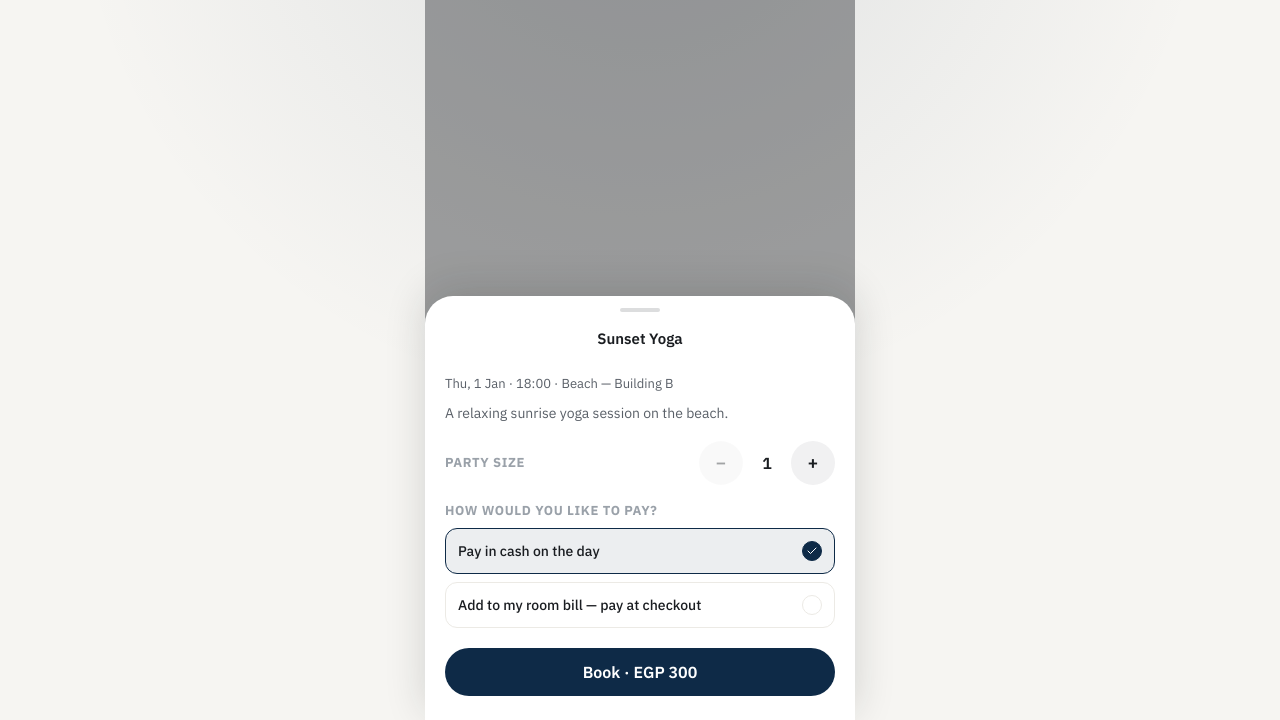
EventBookingSheet (21.4) › bounds the stepper at min 1 and caps at spotsLeft when tighter than maxPartySize
This screenshot has width=1280, height=720.
Expected: the button with test id "party-minus" is disabled, [699,440,743,484]
Click the button with test id "party-plus". click: (813, 462)
box: [791,440,835,484]
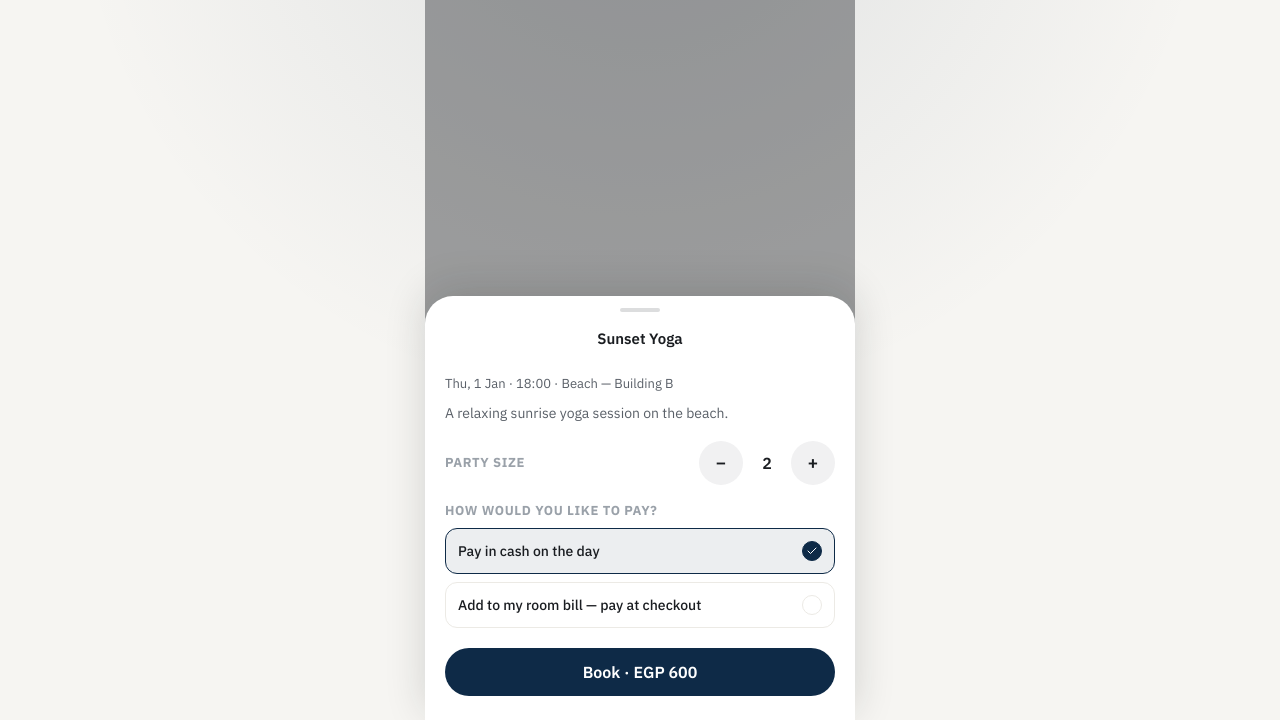
Click the button with test id "party-plus". click: (813, 462)
box: [791,440,835,484]
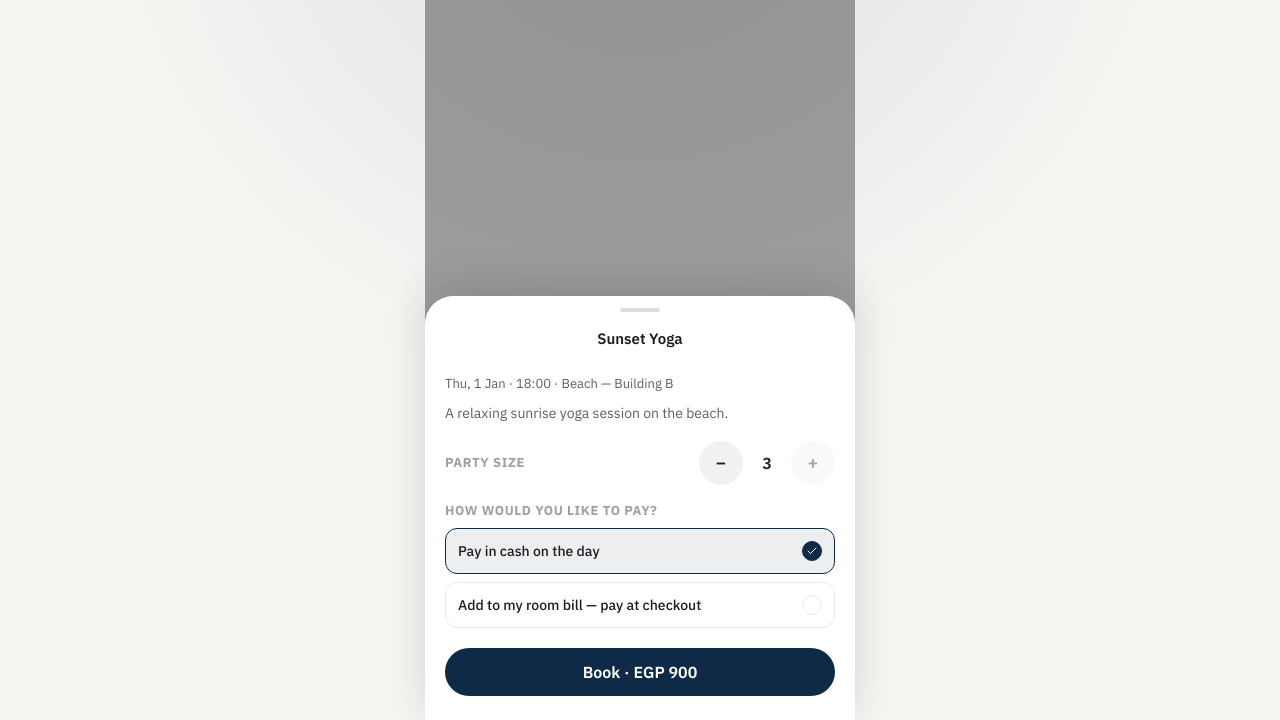
Expected: the button with test id "party-minus" is enabled, [699,440,743,484]
Result: the text with test id "party-size" reads "3" at [762,452,772,472]
Result: the button with test id "party-plus" is disabled at [791,440,835,484]
